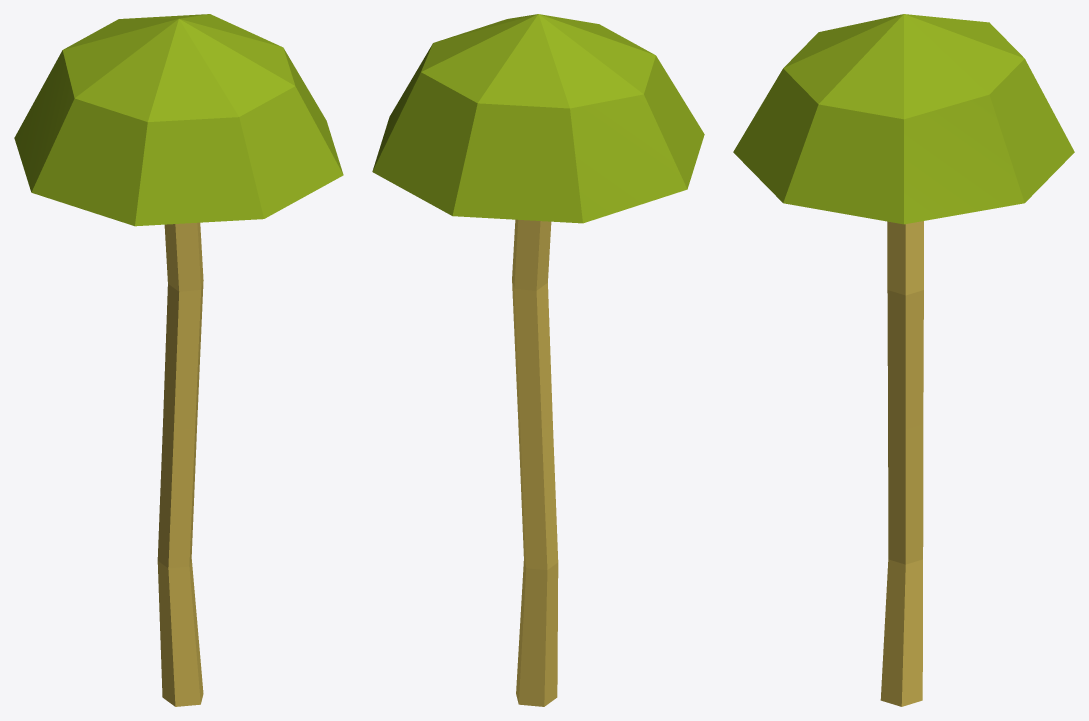
The model's file is Mushroom_g_a_01.fbx.
3 renders of one model, left to right at view 1: azimuth 30°, elevation 25°; view 2: azimuth 150°, elevation 25°; view 3: azimuth 270°, elevation 25°, orthographic.
Visible parts, largest first — view 1: Mushroom_g_a_01_LOD0; view 2: Mushroom_g_a_01_LOD0; view 3: Mushroom_g_a_01_LOD0.
Boxes of the visible parts, bbox=[...] form: Mushroom_g_a_01_LOD0: bbox=[14, 14, 343, 706]; Mushroom_g_a_01_LOD0: bbox=[372, 14, 704, 706]; Mushroom_g_a_01_LOD0: bbox=[733, 14, 1074, 706].
Size of what is drawn, in the model's own units: 3.42 by 7.53 by 3.42.
